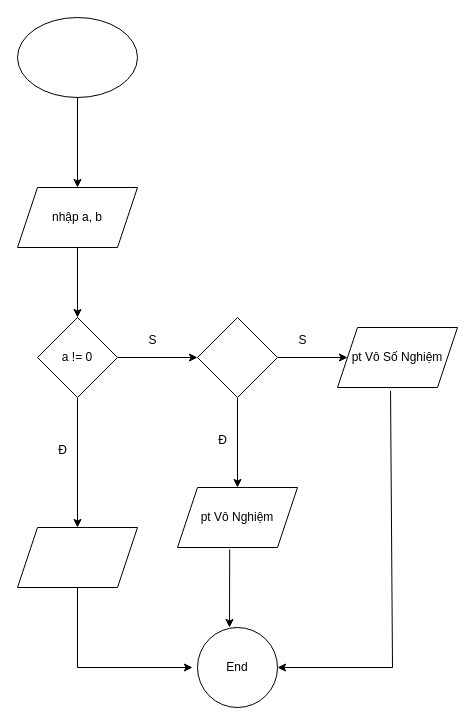
This 475x725 diagram has some shape labels left out. Each missing label, with the centre of its shape:
"b != 0" goes at [237,357].
"pt có nghiệm -b/a" goes at [77,557].
"Start" goes at [77,57].
